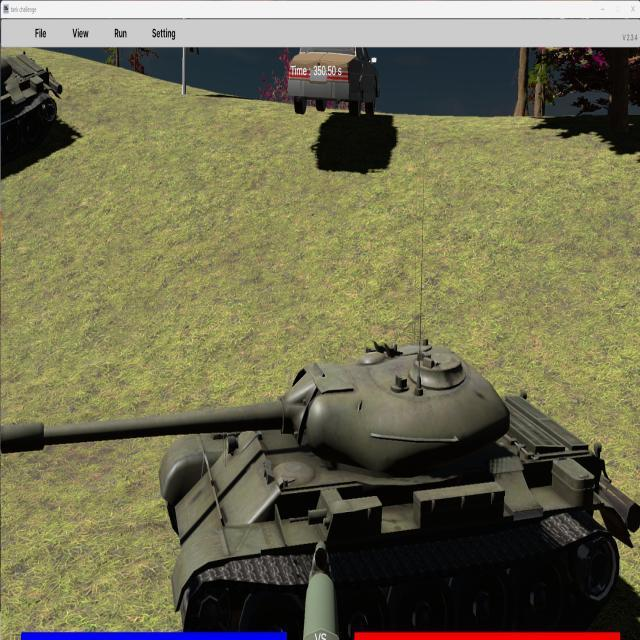Tank: (0, 52, 63, 181)
car: (287, 46, 380, 117)
